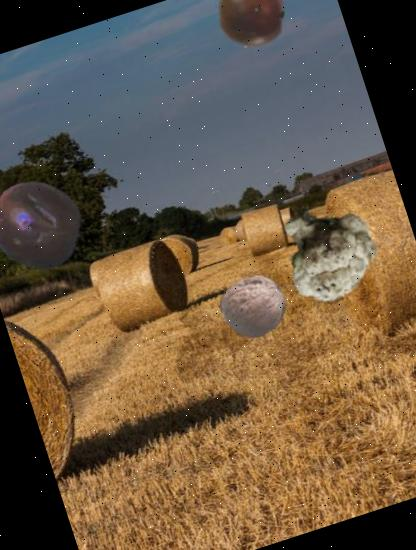Cauliflower: (259, 186, 388, 316)
Passion: (0, 165, 95, 283)
Tomato: (207, 0, 296, 56)
Walnut: (214, 264, 296, 346)
